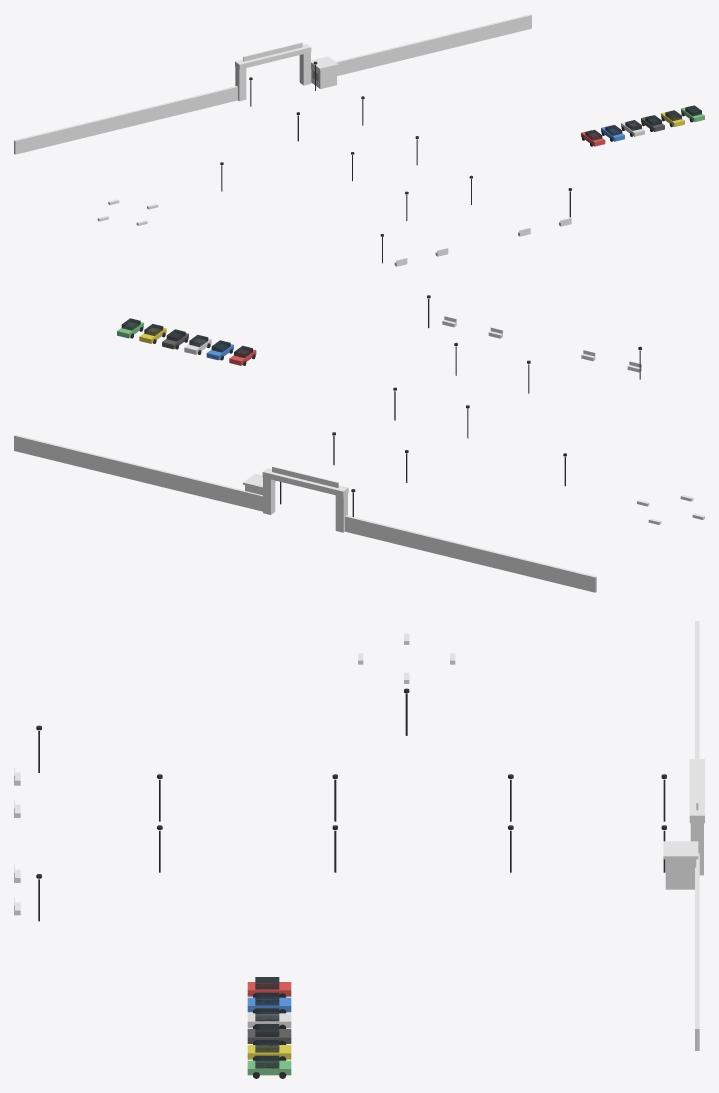
Rendered from campus_props.glb.
3 views of the same model, one above another, from view 1: azimuth 30°, elevation 25°; view 2: azimuth 150°, elevation 25°; view 3: azimuth 270°, elevation 25° (orthographic). The views are drawn at different scales.
Visible parts, largest first — view 1: Boundary_Wall_L, Boundary_Wall_R, Gate_Arch_Beam, Security_Cabin; view 2: Boundary_Wall_L, Boundary_Wall_R, Gate_Arch_Beam; view 3: Gate_Arch_Beam, Boundary_Wall_R, Security_Cabin.
Boxes of the visible parts, left/top/right/bottom form: Boundary_Wall_L: left=14, top=86, right=237, bottom=154; Boundary_Wall_R: left=311, top=14, right=531, bottom=82; Gate_Arch_Beam: left=235, top=44, right=311, bottom=69; Security_Cabin: left=311, top=64, right=336, bottom=88; Boundary_Wall_L: left=345, top=515, right=596, bottom=592; Boundary_Wall_R: left=14, top=434, right=262, bottom=511; Gate_Arch_Beam: left=262, top=468, right=348, bottom=496; Gate_Arch_Beam: left=689, top=759, right=704, bottom=823; Boundary_Wall_R: left=695, top=853, right=699, bottom=1050; Security_Cabin: left=665, top=859, right=696, bottom=889.
Size of the model in its own units: 95.05 by 6.75 by 63.
